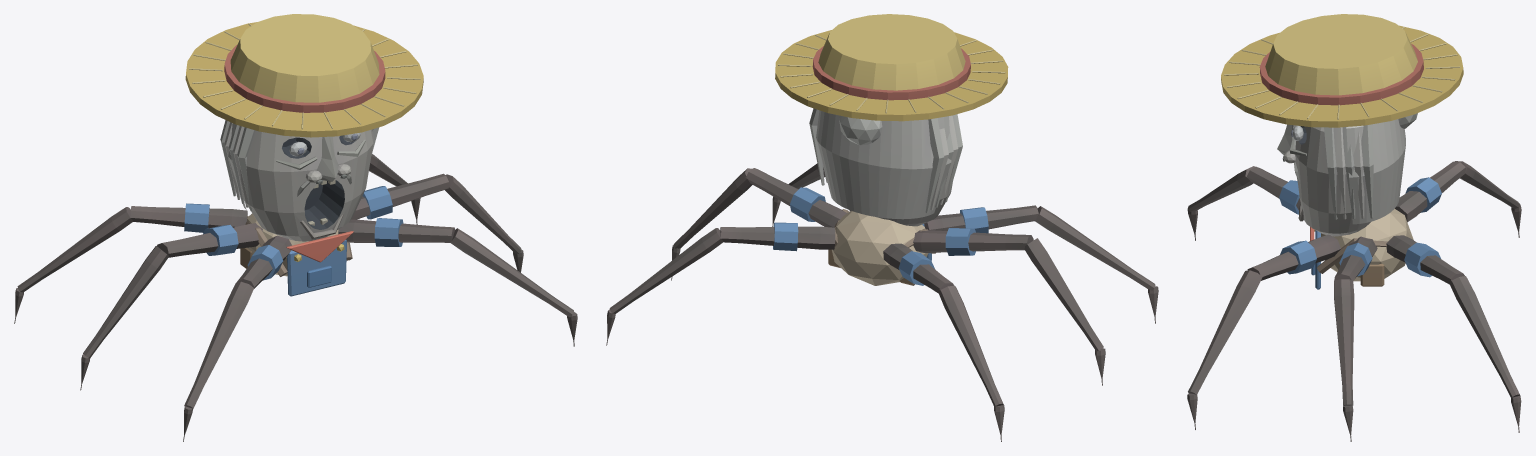
Rendered from SpiderMomFarmer.glb.
3 views of the same model, side by side, from view 1: azimuth 30°, elevation 25°; view 2: azimuth 150°, elevation 25°; view 3: azimuth 270°, elevation 25° (orthographic).
Parts seen in each view (by area): view 1: Head, Body, ArmL, LegR, ArmR, LegL; view 2: Head, Body, LegL, ArmR, LegR, ArmL; view 3: Head, Body, ArmL, LegL, LegR, ArmR.
Part boxes in pixels (x1,y1,x2,y2): Head: [185, 14, 423, 241]; Body: [80, 173, 523, 390]; ArmL: [338, 218, 577, 346]; LegR: [14, 203, 247, 323]; ArmR: [183, 235, 291, 441]; LegL: [369, 154, 420, 224]; Head: [775, 14, 1008, 226]; Body: [671, 168, 1105, 385]; LegL: [606, 222, 835, 345]; ArmR: [924, 205, 1158, 323]; LegR: [883, 243, 1004, 441]; ArmL: [772, 163, 850, 226]; Head: [1221, 14, 1463, 236]; Body: [1310, 208, 1413, 441]; ArmL: [1187, 234, 1340, 429]; LegL: [1386, 235, 1521, 432]; LegR: [1395, 161, 1521, 237]; ArmR: [1187, 166, 1300, 240].
Bounding box in the file's own units: 6.21 × 4.02 × 4.11.
